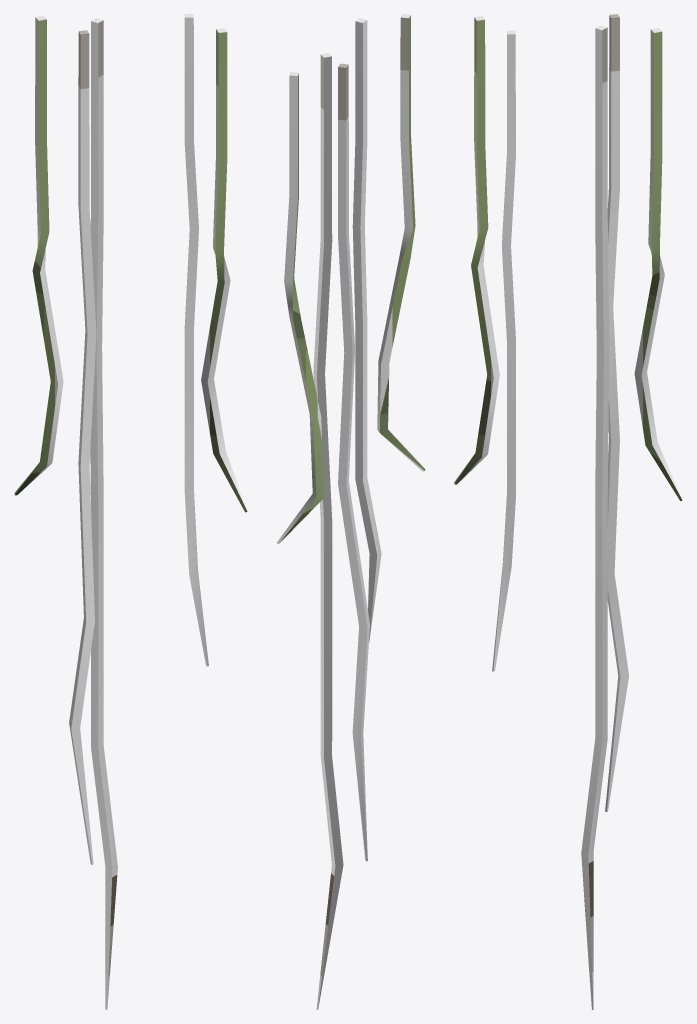
The model's file is synty-tree-vines-04.gltf.
3 renders of one model, left to right at view 1: azimuth 90°, elevation 25°; view 2: azimuth 150°, elevation 25°; view 3: azimuth 270°, elevation 25°, orthographic. The views are drawn at different scales.
Parts seen in each view (by area): view 1: SM_Tree_Vines_04; view 2: SM_Tree_Vines_04; view 3: SM_Tree_Vines_04.
Boxes of the visible parts, x1,y1,x2,y2 form: SM_Tree_Vines_04: (14, 14, 247, 1009); SM_Tree_Vines_04: (276, 14, 425, 1009); SM_Tree_Vines_04: (454, 14, 682, 1009).
Size of the model in its own units: 0.3319 by 4.67 by 0.99.
Materials: 1 (1 with a texture image).
